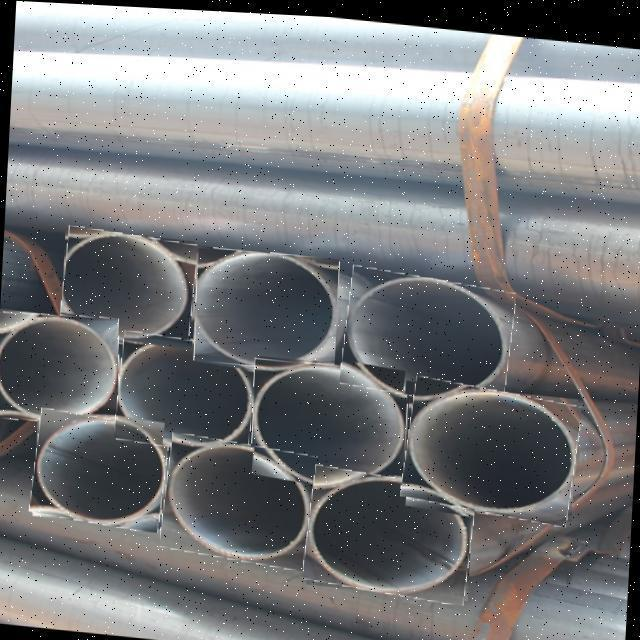pipe: (400, 372, 581, 521), (340, 261, 516, 405), (302, 461, 476, 601), (159, 431, 318, 568), (251, 355, 407, 484), (114, 329, 258, 455), (194, 245, 339, 370), (29, 407, 170, 531), (59, 225, 197, 351), (0, 312, 117, 423)
